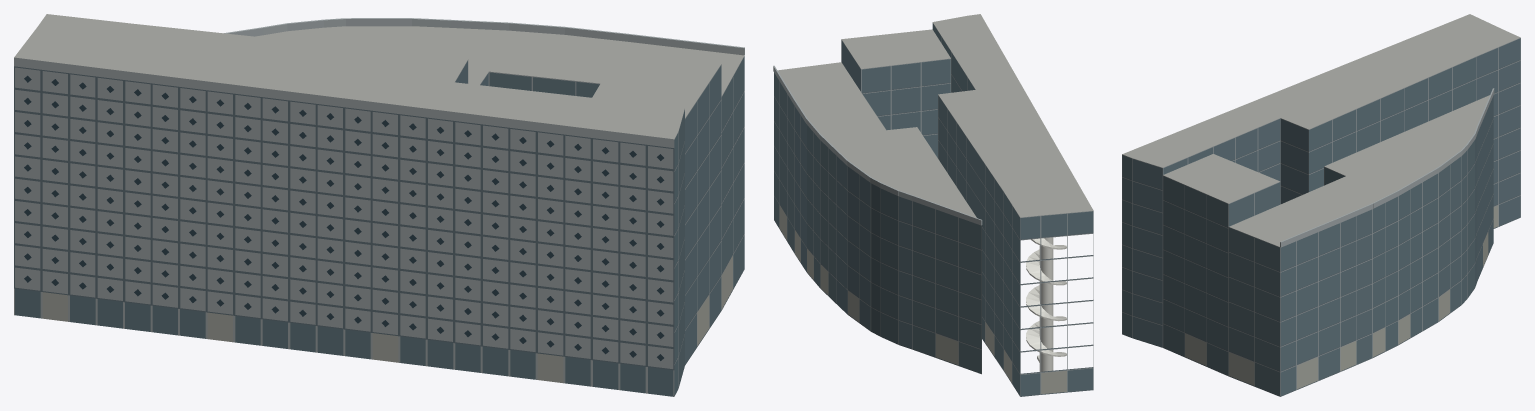
The model's file is institut-du-monde-arabe-far.glb.
3 renders of one model, left to right at view 1: azimuth 30°, elevation 25°; view 2: azimuth 150°, elevation 25°; view 3: azimuth 270°, elevation 25°, orthographic. The views are drawn at different scales.
Parts seen in each view (by area): view 1: institut-du-monde-arabe-0-metal, institut-du-monde-arabe-0-roof, institut-du-monde-arabe-0-frame, institut-du-monde-arabe-0-glass, institut-du-monde-arabe-0-aperture, institut-du-monde-arabe-0-glow; view 2: institut-du-monde-arabe-0-glass, institut-du-monde-arabe-0-roof, institut-du-monde-arabe-0-metal, institut-du-monde-arabe-0-frame, institut-du-monde-arabe-0-white, institut-du-monde-arabe-0-glow; view 3: institut-du-monde-arabe-0-glass, institut-du-monde-arabe-0-roof, institut-du-monde-arabe-0-metal, institut-du-monde-arabe-0-frame, institut-du-monde-arabe-0-glow.
Part boxes in pixels (bbox=[...]): institut-du-monde-arabe-0-metal: bbox=[14, 18, 744, 396]; institut-du-monde-arabe-0-roof: bbox=[14, 14, 744, 139]; institut-du-monde-arabe-0-frame: bbox=[14, 66, 744, 396]; institut-du-monde-arabe-0-glass: bbox=[15, 56, 744, 396]; institut-du-monde-arabe-0-aperture: bbox=[24, 75, 664, 360]; institut-du-monde-arabe-0-glow: bbox=[42, 256, 732, 382]; institut-du-monde-arabe-0-glass: bbox=[774, 23, 1093, 395]; institut-du-monde-arabe-0-roof: bbox=[777, 14, 1093, 217]; institut-du-monde-arabe-0-metal: bbox=[773, 22, 1093, 396]; institut-du-monde-arabe-0-frame: bbox=[774, 73, 1093, 396]; institut-du-monde-arabe-0-white: bbox=[1026, 237, 1066, 371]; institut-du-monde-arabe-0-glow: bbox=[779, 205, 1066, 393]; institut-du-monde-arabe-0-glass: bbox=[1122, 38, 1520, 395]; institut-du-monde-arabe-0-roof: bbox=[1122, 14, 1520, 246]; institut-du-monde-arabe-0-metal: bbox=[1122, 37, 1520, 396]; institut-du-monde-arabe-0-frame: bbox=[1122, 59, 1520, 396]; institut-du-monde-arabe-0-glow: bbox=[1185, 205, 1498, 389].
Bounding box in the file's own units: 77.41 × 32 × 64.23.
